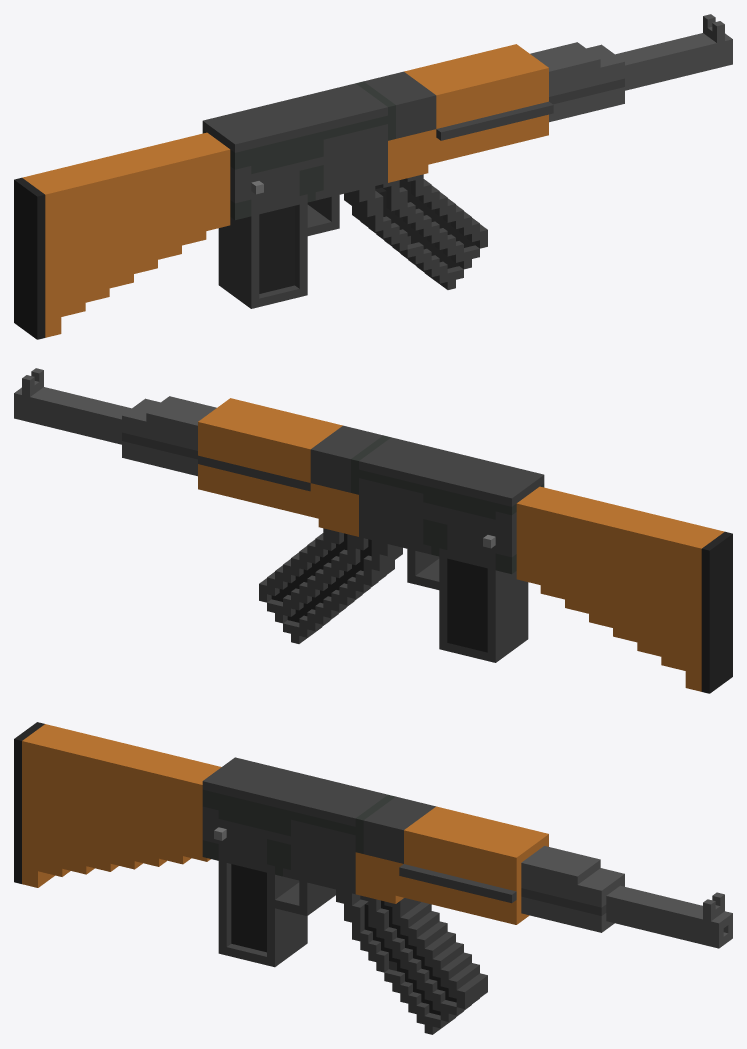
The picture shows the model from 3 angles, top to bottom: view 1: azimuth 30°, elevation 25°; view 2: azimuth 150°, elevation 25°; view 3: azimuth 330°, elevation 25°; orthographic projection.
Visible parts, largest first — view 1: AR; view 2: AR; view 3: AR.
Part boxes in pixels (left/top/right/bottom): AR: left=14, top=14, right=732, bottom=339; AR: left=14, top=368, right=732, bottom=693; AR: left=14, top=722, right=732, bottom=1034.
Bounding box in the file's own units: 8.7 × 2.4 × 0.9.
1 material, 1 textured.
